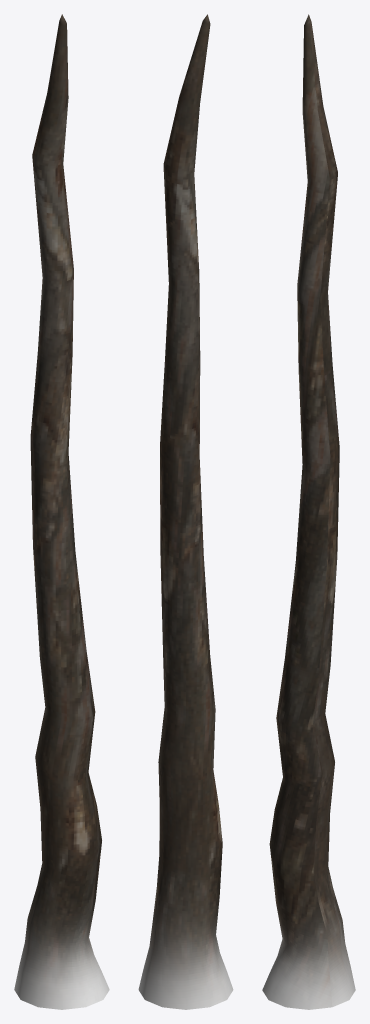
File: big_tree_4.fbx
3 renders of one model, left to right at view 1: azimuth 90°, elevation 25°; view 2: azimuth 150°, elevation 25°; view 3: azimuth 270°, elevation 25°, orthographic. The views are drawn at different scales.
Visible parts, largest first — view 1: big_tree_4; view 2: big_tree_4; view 3: big_tree_4.
Boxes of the visible parts, left/top/right/bottom form: big_tree_4: left=14, top=14, right=109, bottom=1009; big_tree_4: left=138, top=14, right=233, bottom=1009; big_tree_4: left=262, top=14, right=355, bottom=1009.
Bounding box in the file's own units: 166 × 166 × 1890.
